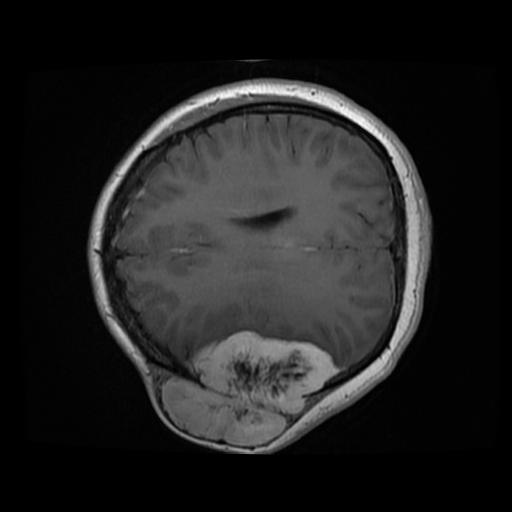meningioma: (160, 330, 342, 445)
